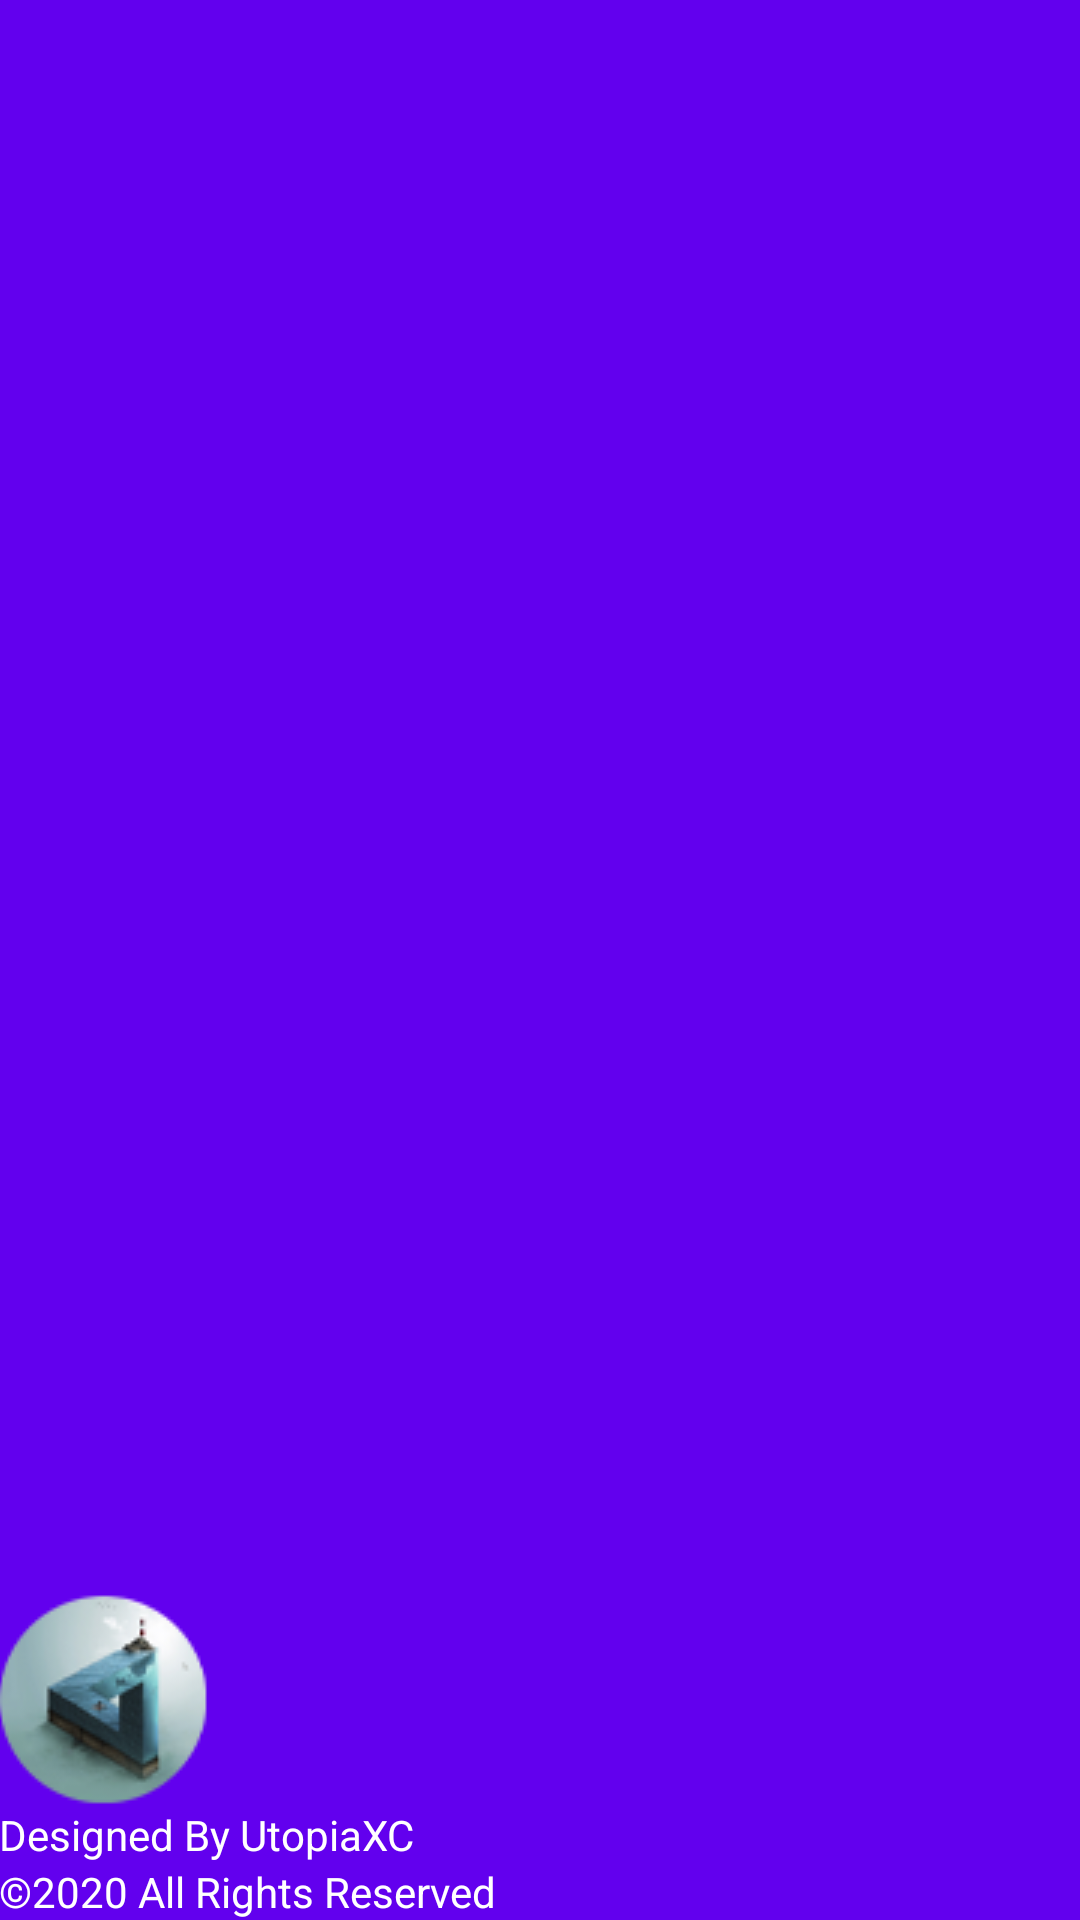

Icon click points for this 1080 x 1920 phone screenshot, format (x,y):
This is developer's Avatar: (103,1699)
